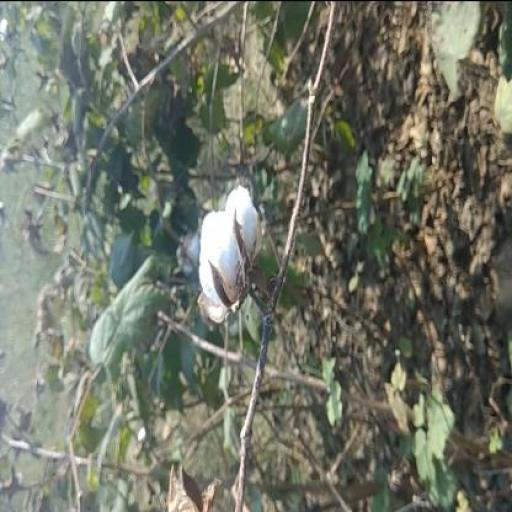cotton_ready: (190, 167, 286, 347)
